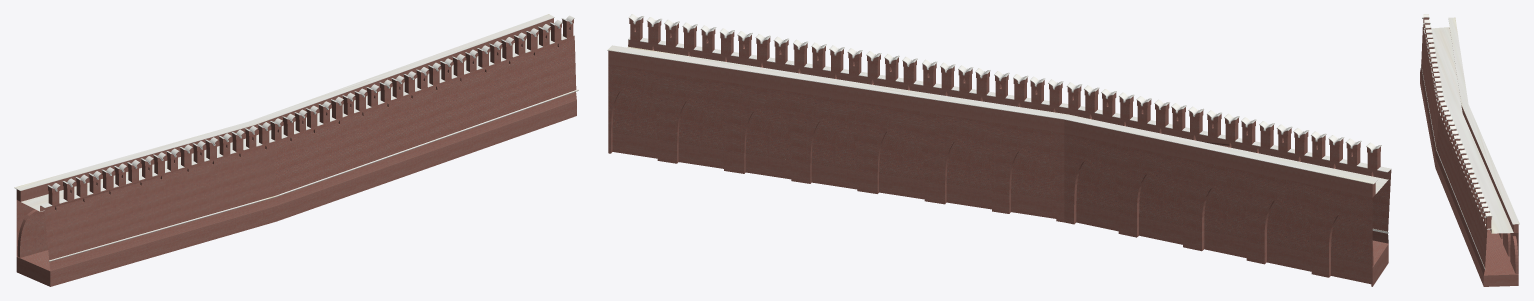
Rendered from KremlyovskayaStena2.FBX.
3 views of the same model, side by side, from view 1: azimuth 30°, elevation 25°; view 2: azimuth 150°, elevation 25°; view 3: azimuth 270°, elevation 25° (orthographic). The views are drawn at different scales.
Parts seen in each view (by area): view 1: Group_003, Group_009, Group_014, Group_004, Group_010, Group_008, Group_022, Group_013, Group_012; view 2: Group_002, Group_009, Group_003, Group_022, Group_010, Group_004, Group_016, Group_020, Group_018, Group_324, Group_011, Group_008; view 3: Group_008, Group_003, Group_009, Group_004, Group_014, Group_010, Group_022, Group_015, Group_013, Group_012, Group_002.
Boxes of the visible parts, x1,y1,x2,y2 form: Group_003: (16, 36, 576, 260); Group_009: (16, 100, 576, 286); Group_014: (49, 92, 576, 271); Group_004: (14, 14, 554, 190); Group_010: (16, 18, 553, 201); Group_008: (21, 30, 562, 211); Group_022: (20, 206, 48, 257); Group_013: (276, 89, 578, 196); Group_012: (49, 196, 275, 261); Group_002: (608, 64, 1064, 203); Group_009: (608, 132, 1388, 286); Group_003: (1064, 133, 1391, 267); Group_022: (612, 85, 1388, 264); Group_010: (608, 50, 1375, 197); Group_004: (607, 45, 1378, 184); Group_016: (879, 125, 991, 190); Group_020: (1139, 169, 1246, 238); Group_018: (1011, 145, 1118, 212); Group_324: (628, 40, 1079, 116); Group_011: (1079, 110, 1377, 177); Group_008: (627, 46, 1388, 193); Group_008: (1431, 27, 1513, 233); Group_003: (1421, 27, 1487, 267); Group_009: (1420, 73, 1518, 286); Group_004: (1448, 17, 1519, 224); Group_014: (1420, 66, 1484, 275); Group_010: (1461, 105, 1518, 232); Group_022: (1499, 233, 1515, 273); Group_015: (1501, 233, 1518, 273); Group_013: (1436, 150, 1485, 269); Group_012: (1421, 64, 1436, 149); Group_002: (1498, 196, 1518, 273).
Bounding box in the file's own units: 78.73 × 12.43 × 15.94.
9 materials, 8 textured.
